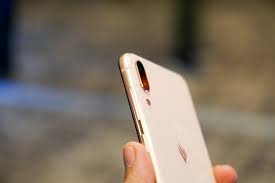vsmart: (118, 51, 218, 183)
